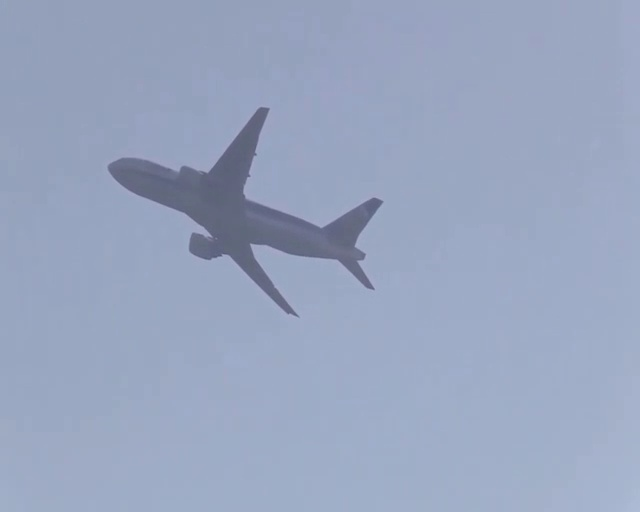AIRPLANE: (107, 105, 384, 322)
